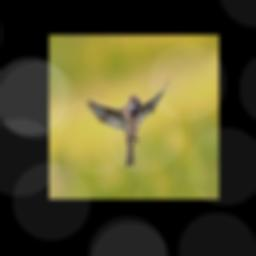Sparrow: (84, 77, 169, 167)
